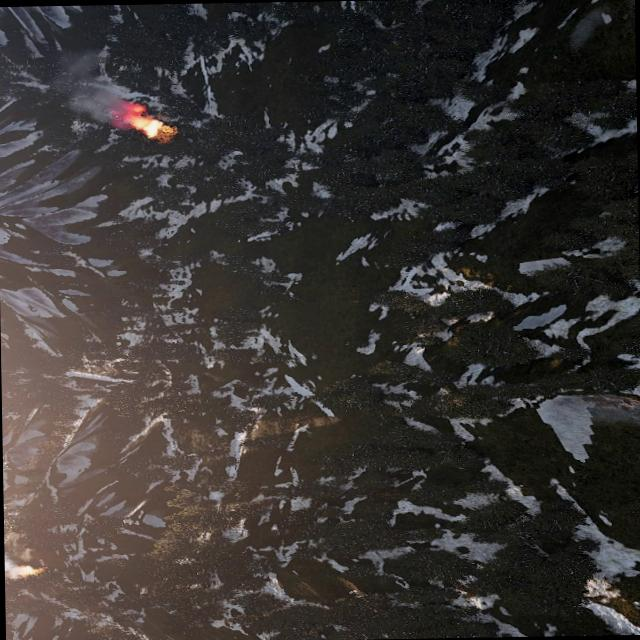fire: (128, 112, 168, 137), (16, 564, 38, 574)
smoke: (67, 80, 136, 128), (4, 551, 22, 577)
